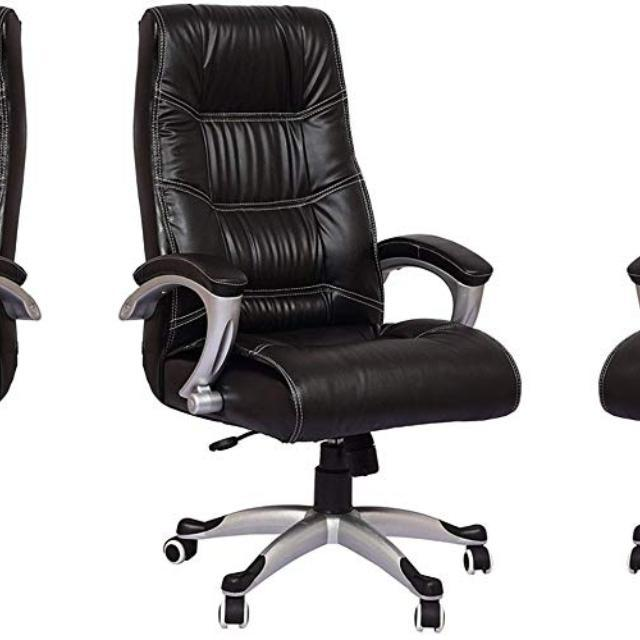obstacle: (108, 16, 514, 632), (0, 16, 52, 632), (606, 16, 640, 632)
